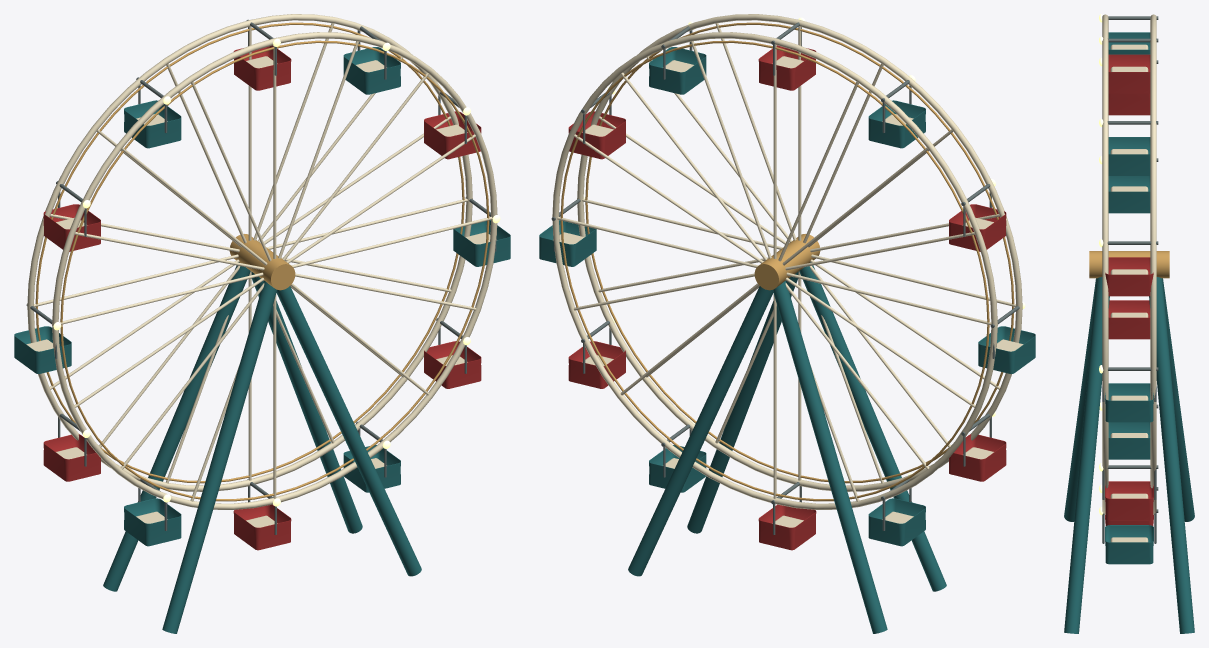
File: FerrisWheel.fbx
3 renders of one model, left to right at view 1: azimuth 30°, elevation 25°; view 2: azimuth 150°, elevation 25°; view 3: azimuth 270°, elevation 25°, orthographic. The views are drawn at different scales.
Visible parts, largest first — view 1: FerrisWheel_Body; view 2: FerrisWheel_Body; view 3: FerrisWheel_Body.
Part boxes in pixels (x1=…): FerrisWheel_Body: x1=14, y1=14, x2=510, y2=633; FerrisWheel_Body: x1=539, y1=14, x2=1035, y2=633; FerrisWheel_Body: x1=1064, y1=14, x2=1194, y2=633.
Size of the model in its own units: 9.32 by 10.37 by 2.27.
